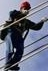boots: (10, 63, 20, 70), (3, 65, 10, 71)
hard-hat: (20, 0, 31, 8)
ppe-suit: (0, 8, 44, 70)
